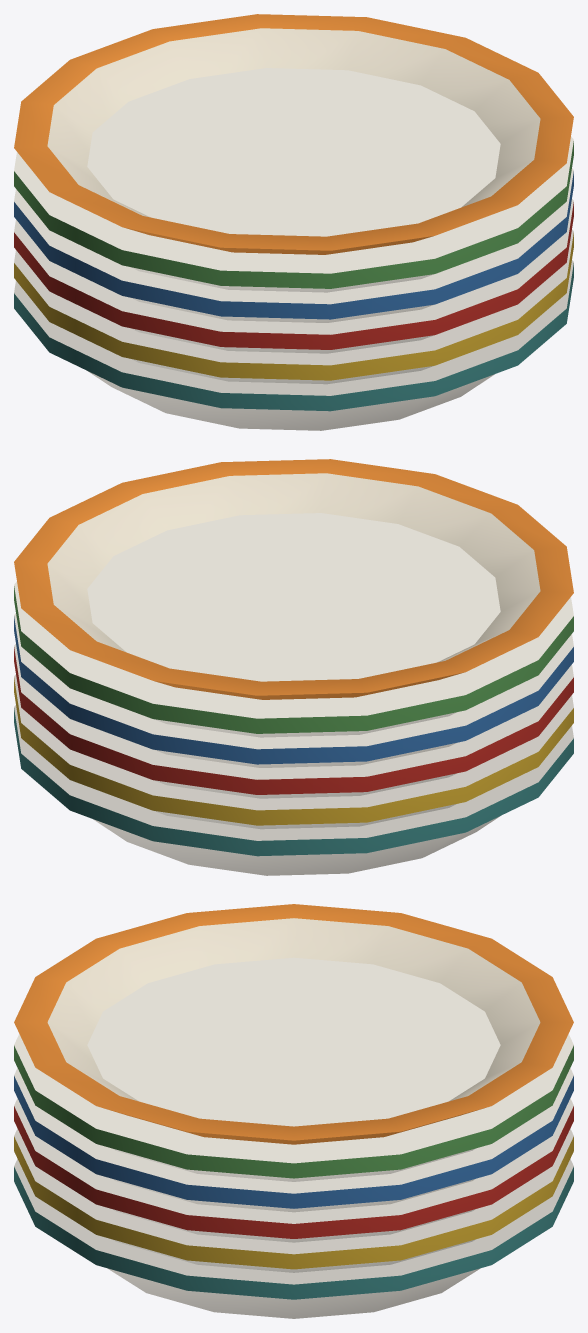
Rendered from Plate_Stack_01.glb.
3 views of the same model, one above another, from view 1: azimuth 30°, elevation 25°; view 2: azimuth 150°, elevation 25°; view 3: azimuth 270°, elevation 25° (orthographic).
Parts seen in each view (by area): view 1: SM_Plate_Stack_01; view 2: SM_Plate_Stack_01; view 3: SM_Plate_Stack_01.
Part boxes in pixels (left/top/right/bottom): SM_Plate_Stack_01: left=14, top=14, right=573, bottom=430; SM_Plate_Stack_01: left=14, top=459, right=573, bottom=875; SM_Plate_Stack_01: left=14, top=904, right=573, bottom=1318.
Size of the model in its own units: 0.268 by 0.11 by 0.268.
1 material, 1 textured.
